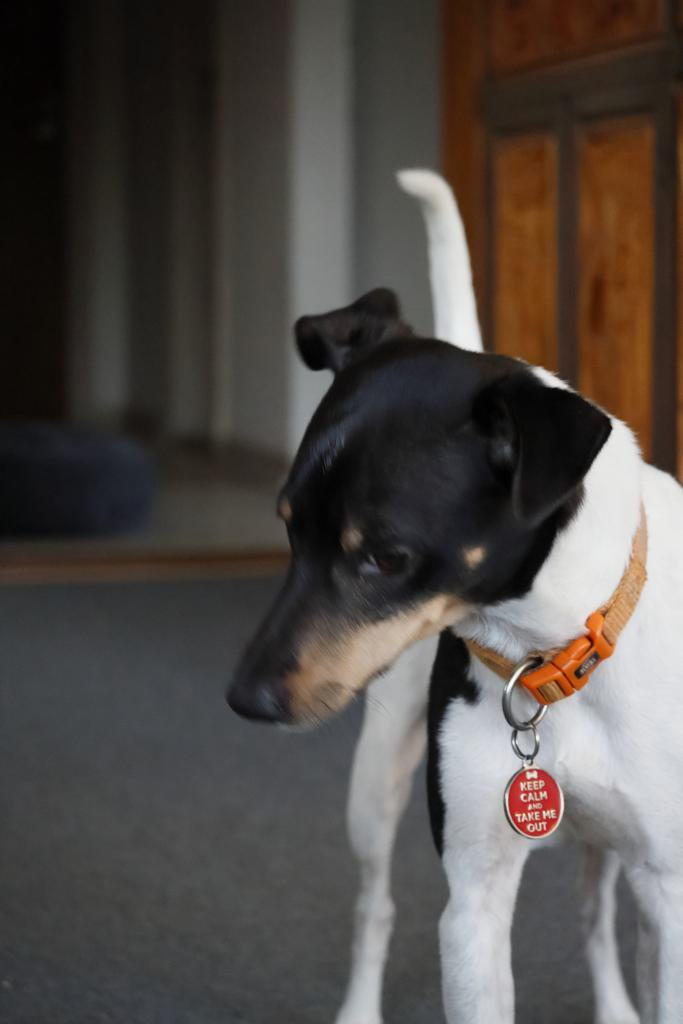Dog: (214, 156, 683, 1024)
